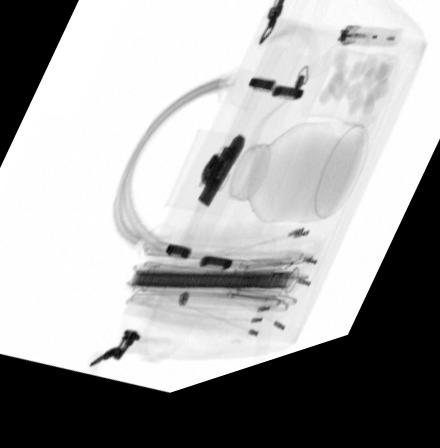Lighter: (335, 47, 402, 73)
